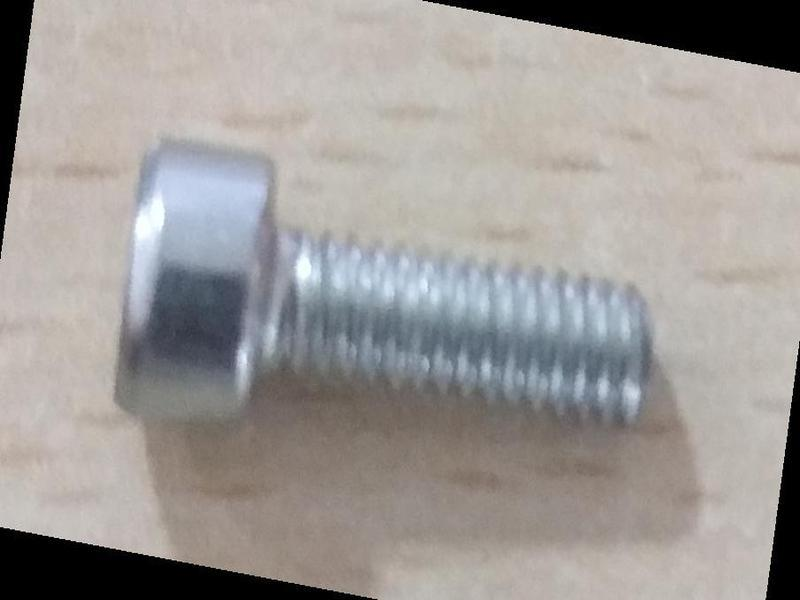smallscrew: (94, 117, 661, 475)
